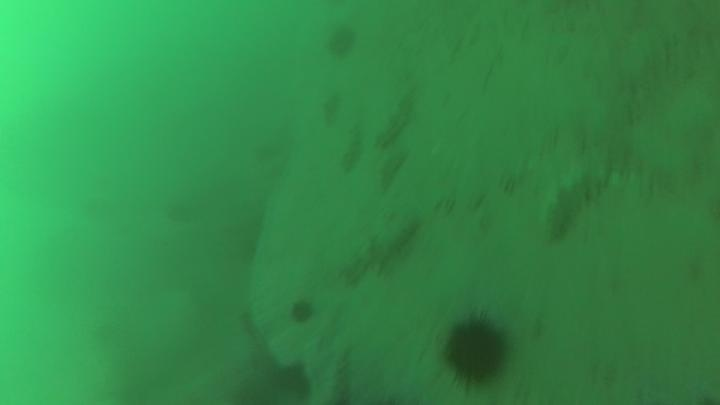echinus: (437, 309, 515, 390), (323, 23, 360, 61), (287, 297, 318, 326)
holothurian: (337, 210, 423, 286), (541, 164, 610, 245), (369, 85, 414, 147), (375, 150, 411, 192), (344, 122, 366, 174)
